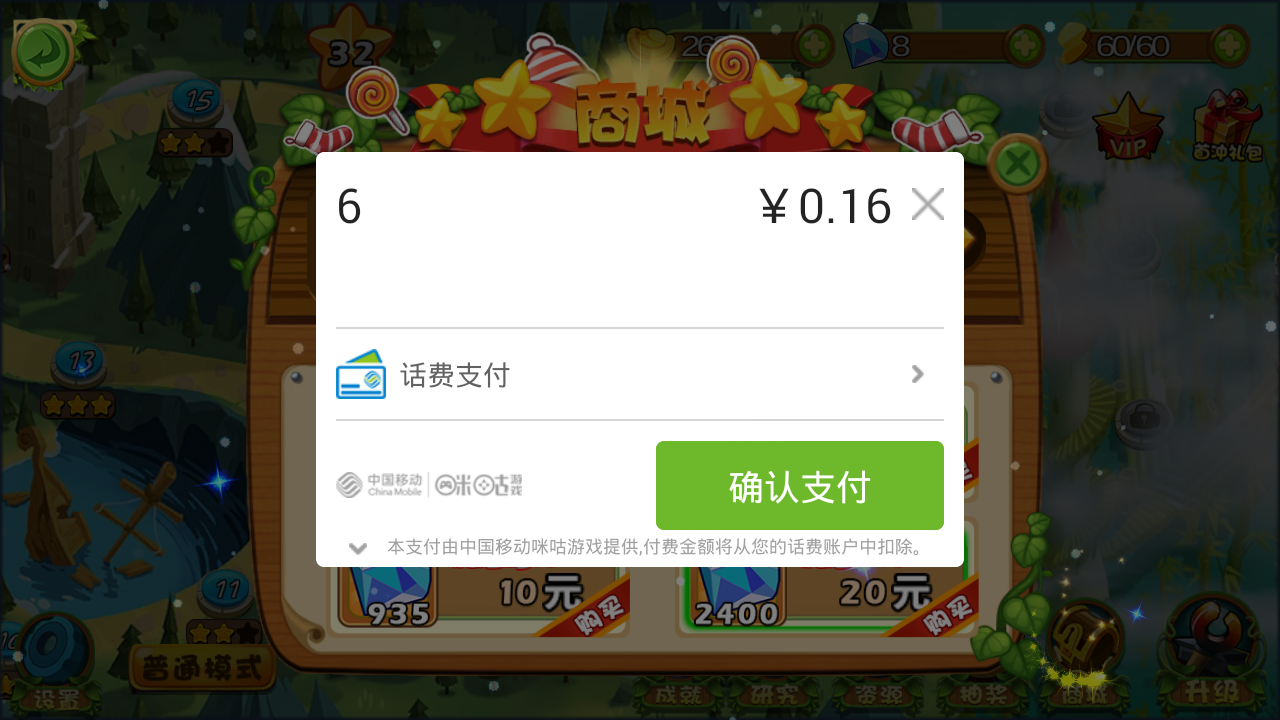textview: (323, 319, 953, 426)
